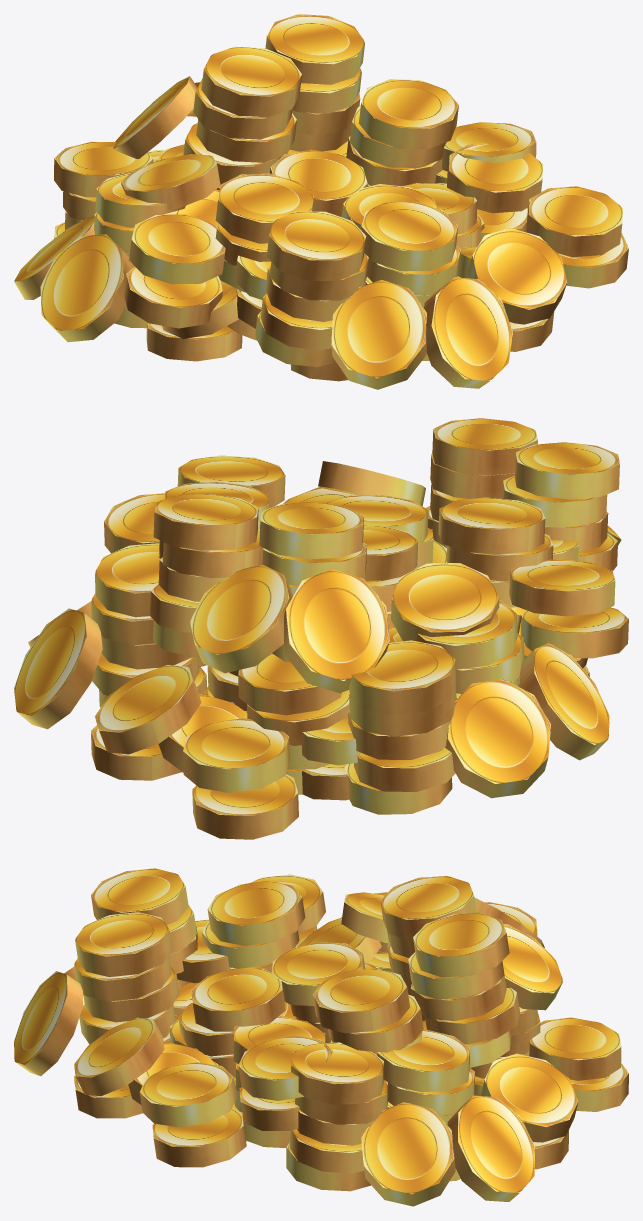
Rendered from coin3.obj.
3 views of the same model, one above another, from view 1: azimuth 30°, elevation 25°; view 2: azimuth 150°, elevation 25°; view 3: azimuth 270°, elevation 25° (orthographic). The views are drawn at different scales.
Size of the model in its own units: 2.95 by 1.24 by 3.27.
